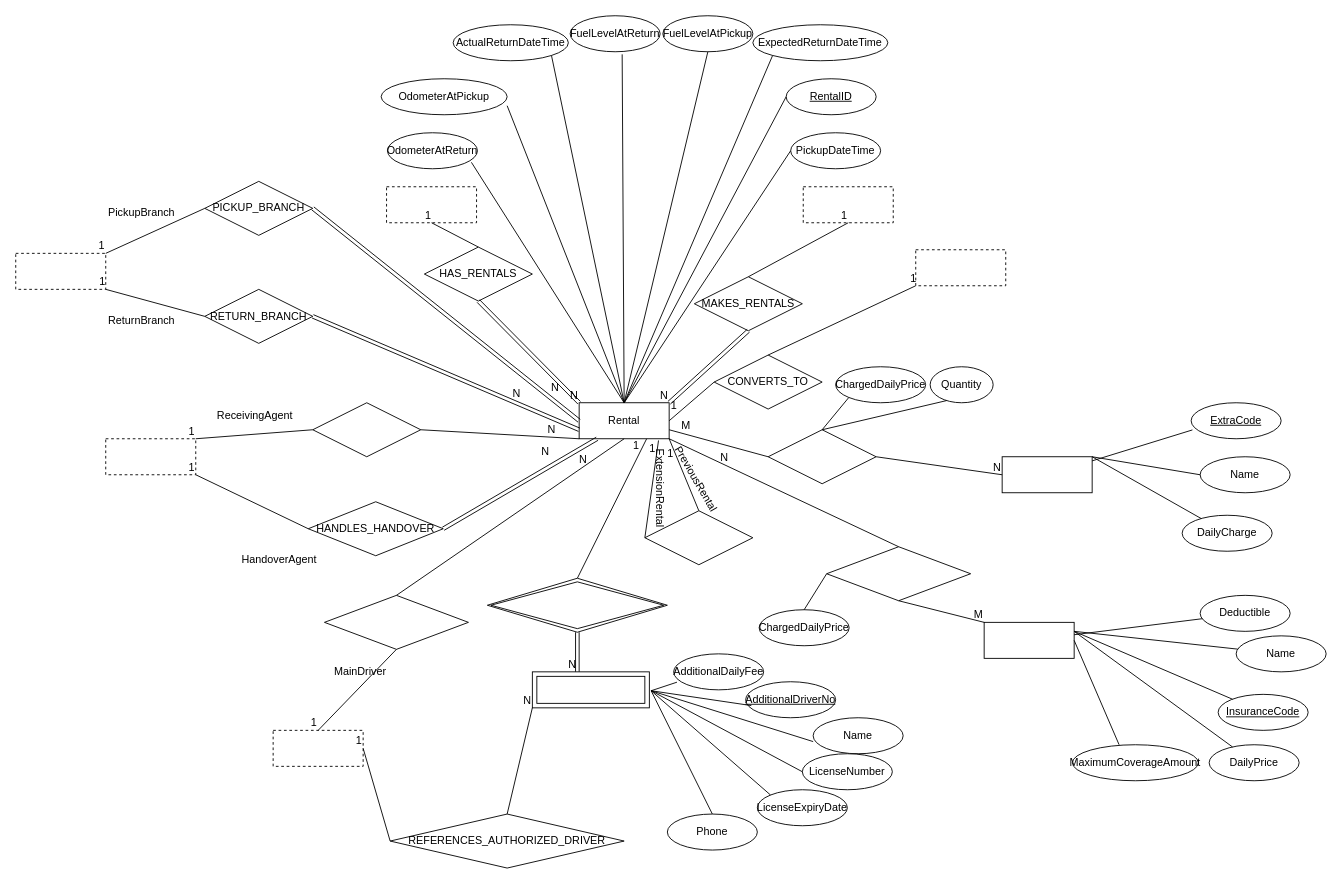
Some shapes in this 1342 by 884 pixel diagram are drawn without their labels. Each missing label, with the box of its shape:
AuthorizedDriver: (272, 729, 363, 766)
Branch: (15, 252, 106, 289)
Customer: (802, 186, 893, 223)
EXTENDS: (644, 510, 753, 565)
Extra: (1001, 456, 1092, 493)
HANDLES_RETURN: (312, 402, 421, 457)
HAS_ADDITIONAL_DRIVERS: (486, 577, 667, 632)
INCLUDES_EXTRA: (767, 429, 876, 484)
INCLUDES_INSURANCE: (826, 546, 971, 601)
InsurancePackage: (983, 621, 1074, 658)
IS_MAIN_DRIVER_FOR: (324, 594, 468, 649)
RentalAdditionalDriver: (531, 671, 649, 708)
RentalAgent: (105, 438, 196, 475)
Reservation: (915, 249, 1006, 286)
Vehicle: (386, 186, 477, 223)
